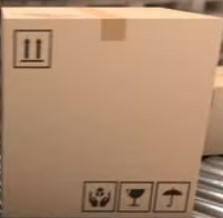stock: (2, 7, 222, 218)
